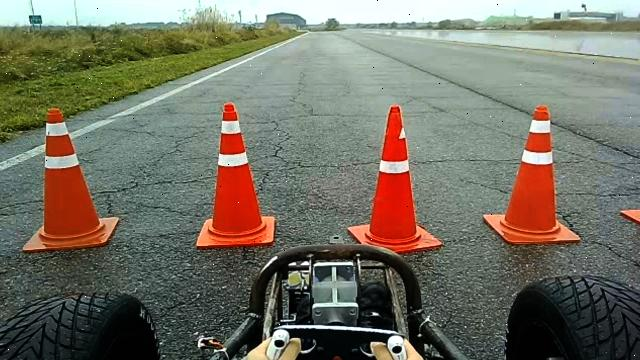red cone: (346, 104, 442, 255), (482, 104, 581, 246), (22, 107, 118, 252), (196, 102, 276, 250)
